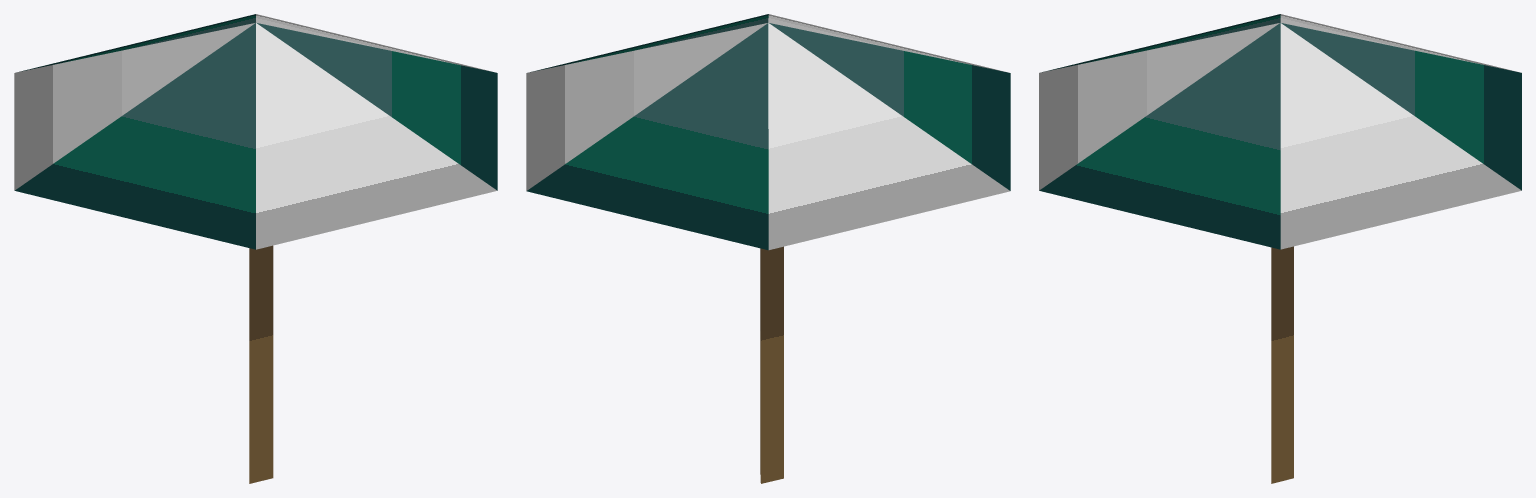
The model's file is parasol_0.obj.
3 renders of one model, left to right at view 1: azimuth 30°, elevation 25°; view 2: azimuth 150°, elevation 25°; view 3: azimuth 270°, elevation 25°, orthographic.
Visible parts, largest first — view 1: parasol_0; view 2: parasol_0; view 3: parasol_0.
Part boxes in pixels (left/top/right/bottom): parasol_0: left=14, top=14, right=497, bottom=483; parasol_0: left=526, top=14, right=1010, bottom=483; parasol_0: left=1039, top=14, right=1521, bottom=483.
Bounding box in the file's own units: 0.3827 × 0.3445 × 0.3314.
1 material, 1 textured.
